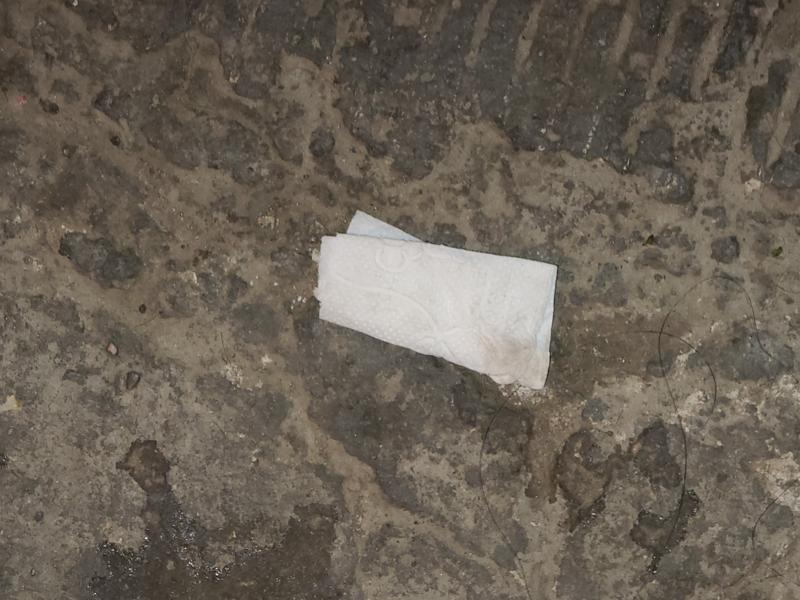papel: (314, 214, 558, 394)
